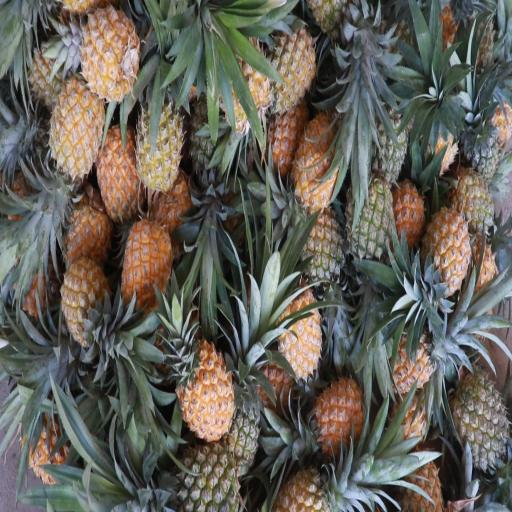------------------------------: (293, 197, 350, 304), (136, 83, 186, 199)
Pineapple - v8 v1: (172, 326, 235, 448), (74, 0, 137, 112), (266, 276, 325, 394), (45, 76, 106, 188), (292, 109, 350, 225), (306, 372, 372, 466), (118, 210, 174, 318), (422, 202, 473, 318), (264, 21, 318, 119), (93, 124, 144, 224), (62, 255, 112, 354)
